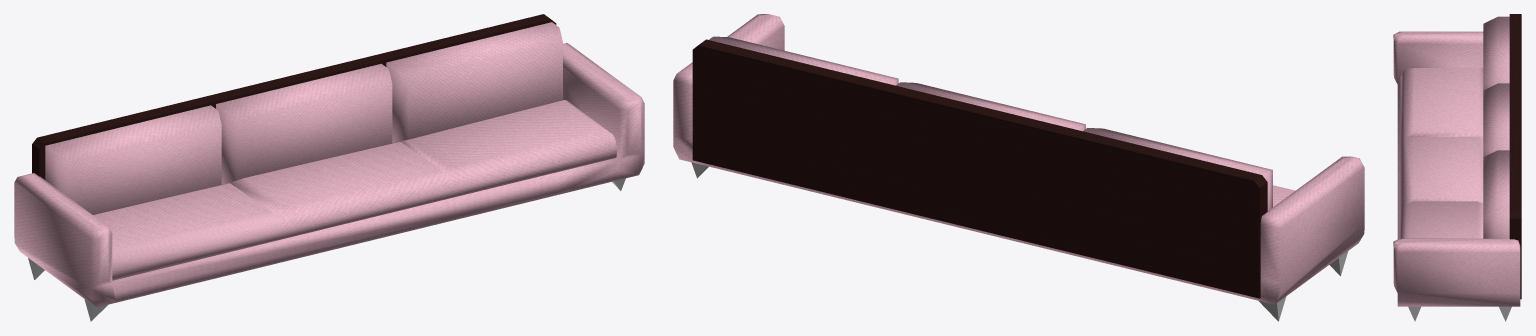
The model's file is Long_Sofa_F.FBX.
3 renders of one model, left to right at view 1: azimuth 30°, elevation 25°; view 2: azimuth 150°, elevation 25°; view 3: azimuth 270°, elevation 25°, orthographic. The views are drawn at different scales.
Parts seen in each view (by area): view 1: Long_Sofa; view 2: Long_Sofa; view 3: Long_Sofa.
Boxes of the visible parts, x1,y1,x2,y2 form: Long_Sofa: [14, 14, 644, 321]; Long_Sofa: [673, 14, 1364, 321]; Long_Sofa: [1393, 14, 1521, 321].
Size of the model in its own units: 685 by 157 by 171.
